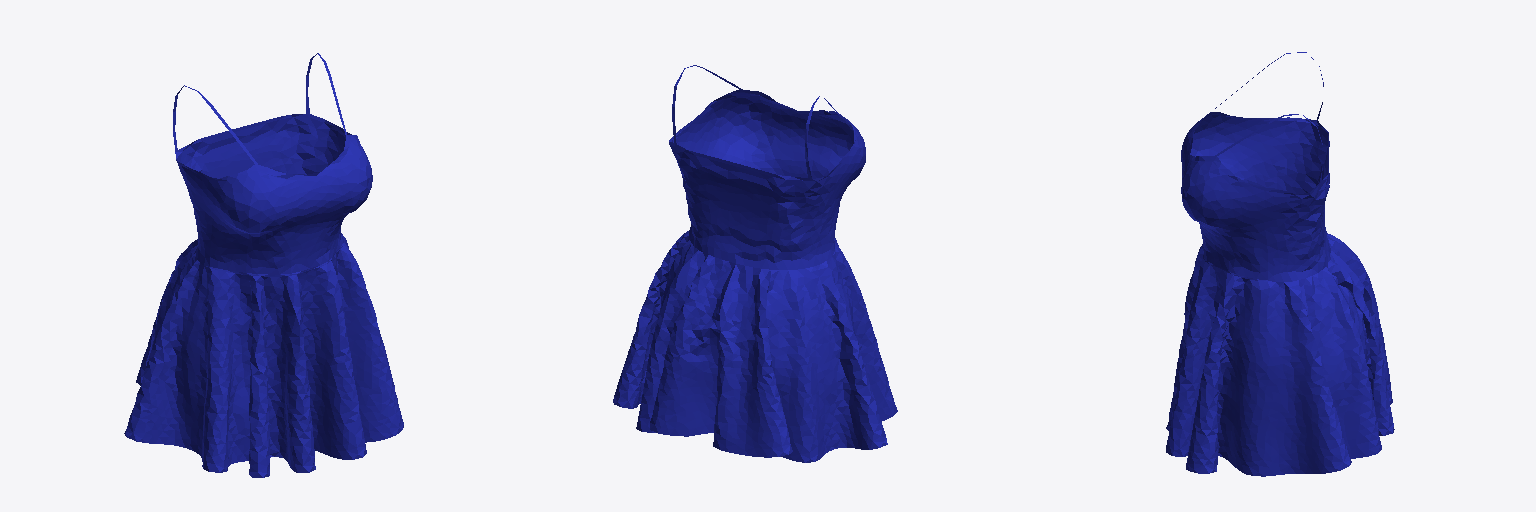
3 views of the same model, side by side, from view 1: azimuth 30°, elevation 25°; view 2: azimuth 150°, elevation 25°; view 3: azimuth 270°, elevation 25° (orthographic).
Parts seen in each view (by area): view 1: large_blueDress_noinside_resize:polySurface2 large_blueDress_noi; view 2: large_blueDress_noinside_resize:polySurface2 large_blueDress_noi; view 3: large_blueDress_noinside_resize:polySurface2 large_blueDress_noi.
Boxes of the visible parts, x1,y1,x2,y2 form: large_blueDress_noinside_resize:polySurface2 large_blueDress_noi: [124, 53, 403, 477]; large_blueDress_noinside_resize:polySurface2 large_blueDress_noi: [613, 65, 897, 462]; large_blueDress_noinside_resize:polySurface2 large_blueDress_noi: [1166, 52, 1394, 476].
Bounding box in the file's own units: 5.31 × 7.23 × 4.24.
Materials: 10 (1 with a texture image).